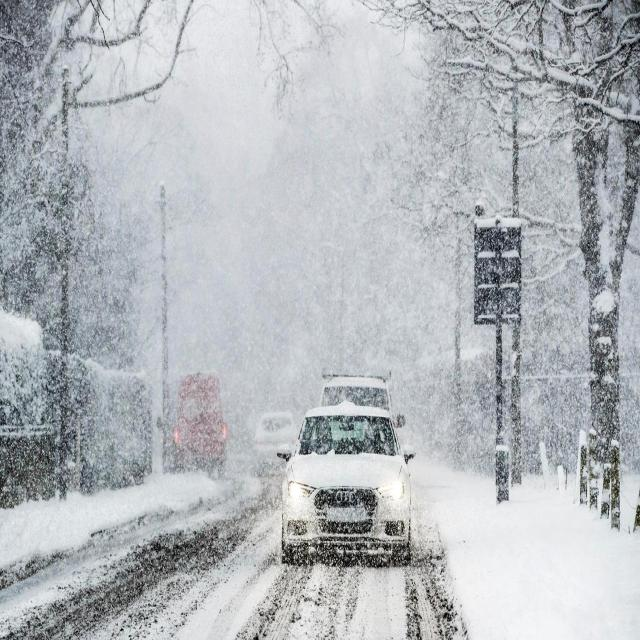car: (279, 408, 414, 568), (170, 379, 228, 479), (319, 365, 395, 408), (253, 412, 300, 479)
